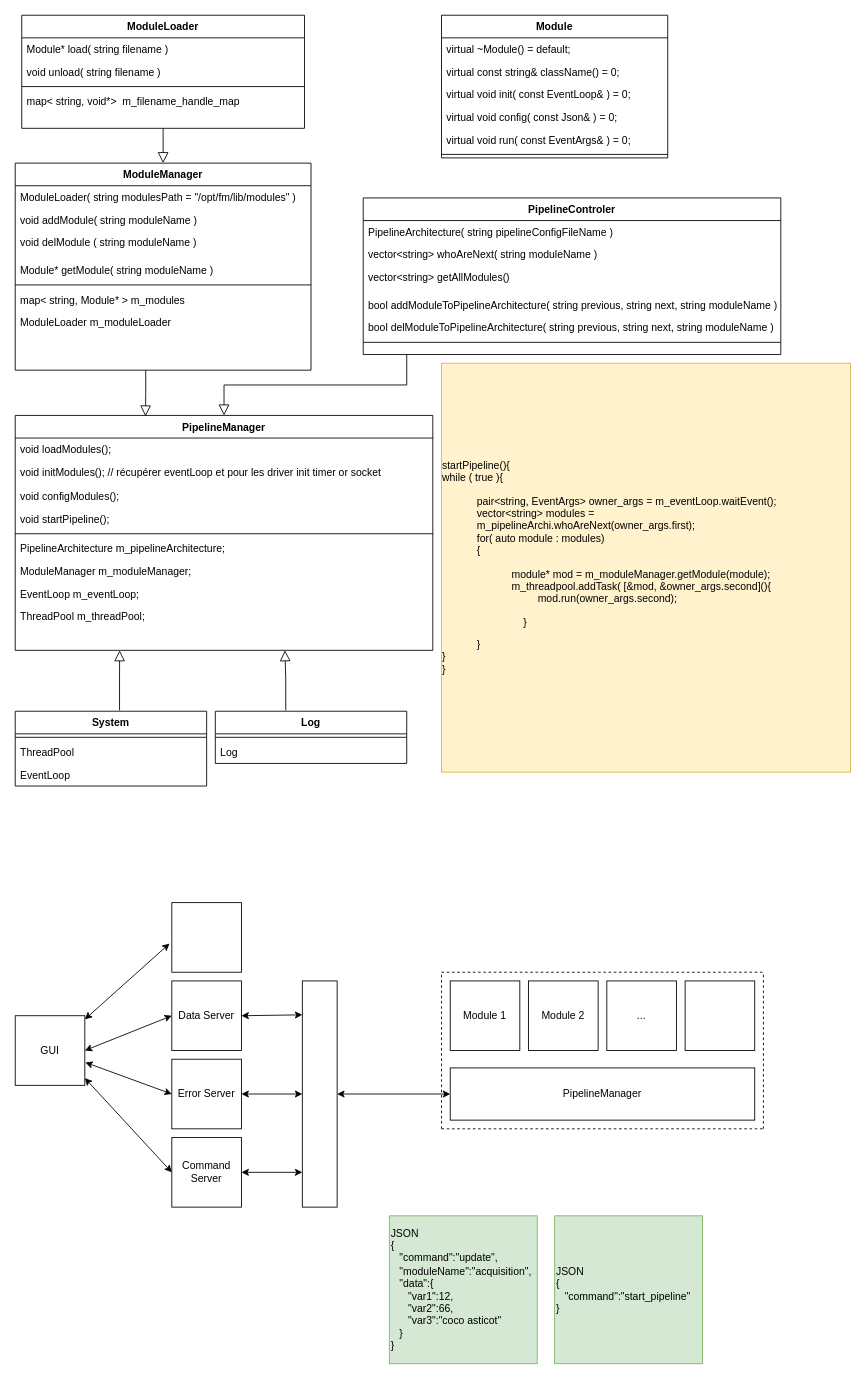
Image size: 866x1379. Some labels were removed from this diagram. The shapes that lost their labels are listed below. From the top down, each one's centre as x and y in pixels, then its label:
point (206, 937): Logging Server
point (719, 1015): Module N
point (319, 1093): Proxy
